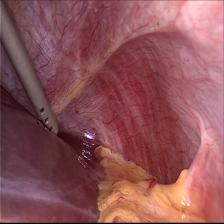Irrigator: (32, 86, 62, 138)
